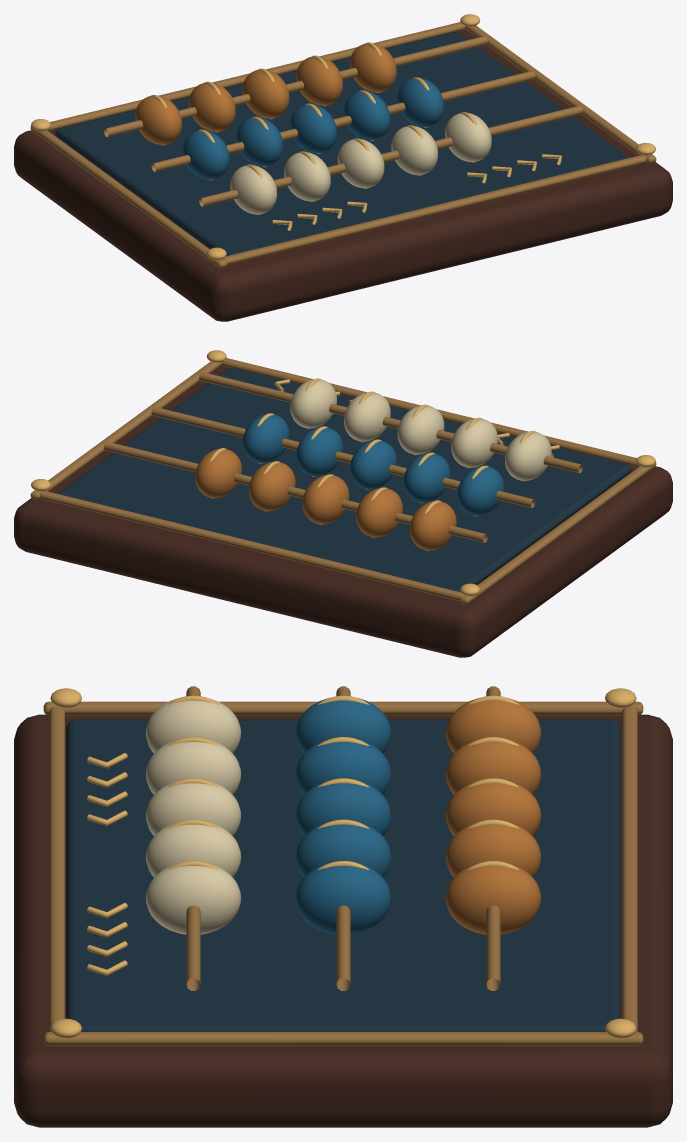
Rendered from dealers-tally-v1.glb.
3 views of the same model, one above another, from view 1: azimuth 30°, elevation 25°; view 2: azimuth 150°, elevation 25°; view 3: azimuth 270°, elevation 25° (orthographic). The views are drawn at different scales.
Visible parts, largest first — view 1: TallyBed, TallyFrame, FrameChase.002, FrameChase.003, FrameChase, FrameChase.001, CounterRail1, CounterRail0, CounterRail2, CounterBead0_2, CounterBead1_3, CounterBead1_0 (+12 smaller); view 2: TallyBed, TallyFrame, FrameChase.003, FrameChase.002, FrameChase, FrameChase.001, CounterRail1, CounterRail2, CounterRail0, CounterBead2_2, CounterBead1_3, CounterBead0_1 (+12 smaller); view 3: TallyBed, TallyFrame, FrameChase.001, FrameChase, FrameChase.002, FrameChase.003, CounterBead0_4, CounterBead2_4, CounterBead1_4, CounterBead1_3, CounterBead0_3, CounterBead2_3 (+12 smaller).
Part boxes in pixels (box(x1,y1,x2,y2)): TallyBed: box(55, 32, 628, 256); TallyFrame: box(14, 29, 672, 321); FrameChase.002: box(223, 155, 646, 265); FrameChase.003: box(47, 22, 465, 131); FrameChase: box(30, 126, 226, 268); FrameChase.001: box(460, 21, 656, 163); CounterRail1: box(151, 70, 535, 172); CounterRail0: box(199, 105, 582, 206); CounterRail2: box(104, 36, 487, 137); CounterBead0_2: box(337, 139, 384, 188); CounterBead1_3: box(343, 91, 390, 140); CounterBead1_0: box(183, 130, 229, 179); TallyBed: box(58, 368, 631, 592); TallyFrame: box(14, 365, 672, 657); FrameChase.003: box(40, 491, 463, 601); FrameChase.002: box(221, 358, 639, 467); FrameChase: box(460, 462, 656, 604); FrameChase.001: box(30, 357, 226, 499); CounterRail1: box(151, 406, 535, 508); CounterRail2: box(104, 441, 487, 542); CounterRail0: box(199, 372, 582, 473); CounterBead2_2: box(302, 475, 349, 524); CounterBead1_3: box(296, 427, 343, 476); CounterBead0_1: box(451, 418, 497, 467); TallyBed: box(66, 719, 620, 1031); TallyFrame: box(14, 714, 672, 1127); FrameChase.001: box(43, 1032, 643, 1045); FrameChase: box(43, 701, 643, 715); FrameChase.002: box(49, 707, 64, 1031); FrameChase.003: box(622, 707, 637, 1031); CounterBead0_4: box(145, 863, 241, 934); CounterBead2_4: box(445, 863, 541, 934); CounterBead1_4: box(295, 863, 391, 934); CounterBead1_3: box(295, 821, 391, 877); CounterBead0_3: box(146, 821, 241, 877); CounterBead2_3: box(445, 821, 540, 877).
Size of the model in its own units: 1.85 by 0.38 by 1.45.
